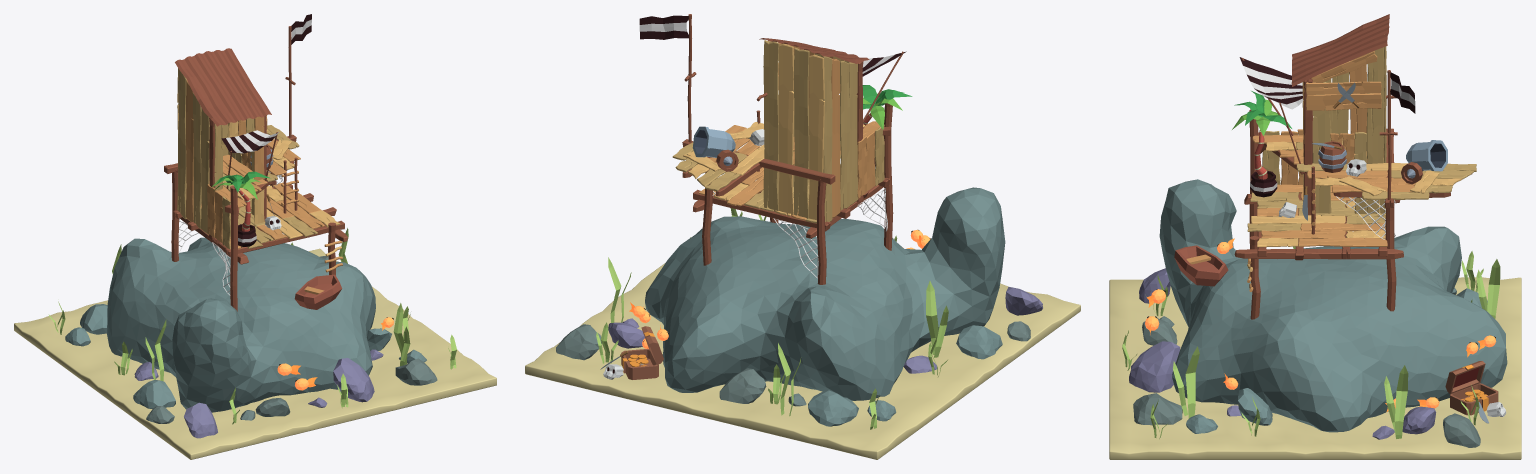
Rendered from Pirate base.fbx.
3 renders of one model, left to right at view 1: azimuth 30°, elevation 25°; view 2: azimuth 150°, elevation 25°; view 3: azimuth 270°, elevation 25°, orthographic. The views are drawn at different scales.
Visible parts, largest first — view 1: Icosphere, dno, Plane, Cube.029, Icosphere.019, Cube.027, Cube.075, Cube.028, Cube.026, Cylinder.002, Icosphere.010, Icosphere.009 (+8 smaller); view 2: Icosphere, dno, Cube.024, Cube.023, Cube.025, Cube.022, Cube.027, Icosphere.007, Cube.029, Cube.028, Cube.026, Icosphere.017 (+16 smaller); view 3: Icosphere, dno, Plane, Icosphere.019, Cube.033, Plane.001, Cube.021, Cube.075, Cube.030, Icosphere.004, Cube.047, Cylinder.023 (+36 smaller).
Part boxes in pixels (<box>): Icosphere: <box>107,237,375,412</box>; dno: <box>14,248,496,459</box>; Plane: <box>175,48,271,126</box>; Cube.029: <box>178,68,186,219</box>; Icosphere.019: <box>333,358,374,402</box>; Cube.027: <box>193,93,201,229</box>; Cube.075: <box>294,274,342,309</box>; Cube.028: <box>186,80,193,221</box>; Cube.026: <box>201,108,209,234</box>; Cylinder.002: <box>230,185,237,311</box>; Icosphere.010: <box>133,379,175,408</box>; Icosphere.009: <box>184,402,217,438</box>; Icosphere: <box>645,187,1005,400</box>; dno: <box>525,263,1080,459</box>; Cube.024: <box>778,43,794,214</box>; Cube.023: <box>793,48,809,218</box>; Cube.025: <box>763,40,779,211</box>; Cube.022: <box>808,55,824,220</box>; Cube.027: <box>840,61,849,210</box>; Icosphere.007: <box>808,390,858,426</box>; Cube.029: <box>822,56,832,222</box>; Cube.028: <box>831,59,840,217</box>; Cube.026: <box>848,62,858,205</box>; Icosphere.017: <box>719,368,766,403</box>; Icosphere: <box>1159,179,1507,432</box>; dno: <box>1109,277,1521,459</box>; Plane: <box>1291,14,1389,86</box>; Icosphere.019: <box>1129,341,1180,392</box>; Cube.033: <box>1366,47,1384,213</box>; Plane.001: <box>1239,57,1303,109</box>; Cube.021: <box>1234,248,1403,259</box>; Cube.075: <box>1174,245,1228,286</box>; Cube.030: <box>1312,82,1331,213</box>; Icosphere.004: <box>1133,393,1182,425</box>; Cube.047: <box>1305,93,1381,110</box>; Cylinder.023: <box>1406,140,1447,171</box>.
Bounding box in the file's own units: 1689 × 1594 × 1689.
